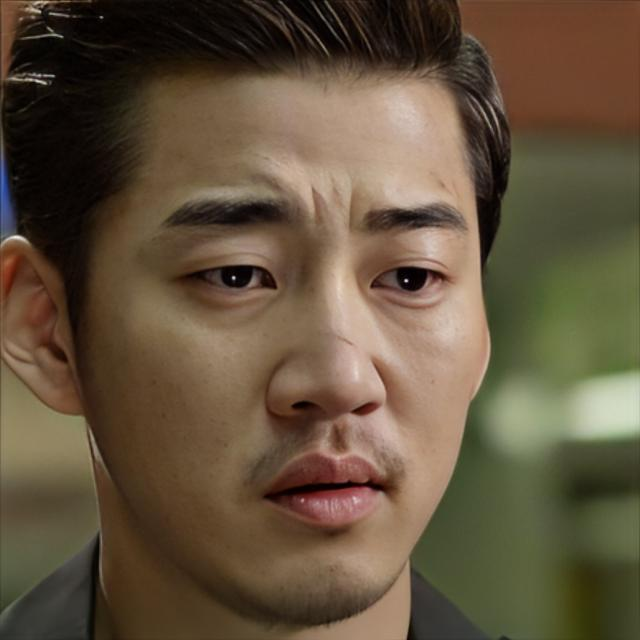sad: (78, 63, 490, 630)
